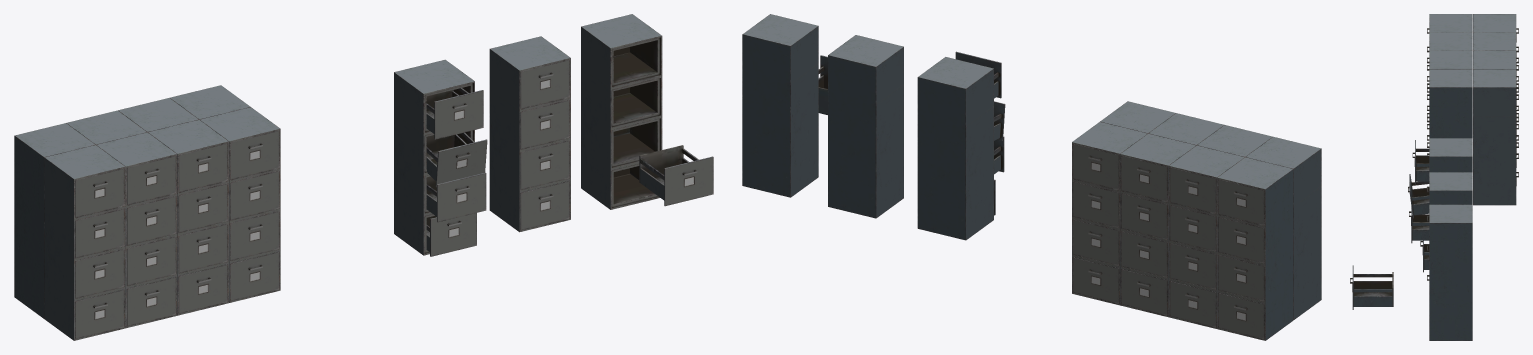
The model's file is optimized_cabinet.gltf.
The picture shows the model from 3 angles, left to right: view 1: azimuth 30°, elevation 25°; view 2: azimuth 150°, elevation 25°; view 3: azimuth 270°, elevation 25°; orthographic projection. The views are drawn at different scales.
Parts seen in each view (by area): view 1: box_2, box_1, box_6, box, box_5, box_4, box_3, box_10, box_7, box_9, box_8; view 2: box_1, box_2, box_10, box, box_8, box_9, box_7, box_6, box_4, box_3, box_5; view 3: box_2, box_7, box_1, box_3, box, box_8, box_4, box_9, box_10, box_5, box_6.
Part boxes in pixels (bbox=[...]): box_2: bbox=[581, 14, 713, 209]; box_1: bbox=[394, 59, 487, 256]; box_6: bbox=[44, 145, 125, 340]; box: bbox=[489, 36, 570, 232]; box_5: bbox=[96, 132, 177, 328]; box_4: bbox=[148, 119, 228, 315]; box_3: bbox=[200, 107, 280, 302]; box_10: bbox=[14, 123, 95, 318]; box_7: bbox=[170, 85, 250, 119]; box_9: bbox=[66, 110, 146, 144]; box_8: bbox=[118, 98, 198, 132]; box_1: bbox=[917, 51, 1005, 240]; box_2: bbox=[742, 14, 827, 197]; box_10: bbox=[1217, 157, 1293, 340]; box: bbox=[828, 35, 903, 218]; box_8: bbox=[1120, 133, 1196, 317]; box_9: bbox=[1169, 145, 1244, 328]; box_7: bbox=[1072, 122, 1147, 305]; box_6: bbox=[1245, 136, 1321, 320]; box_4: bbox=[1148, 113, 1224, 145]; box_3: bbox=[1100, 101, 1175, 133]; box_5: bbox=[1197, 125, 1272, 156]; box_2: bbox=[1350, 204, 1472, 340]; box_7: bbox=[1473, 69, 1518, 205]; box_1: bbox=[1408, 138, 1472, 272]; box_3: bbox=[1427, 69, 1472, 147]; box: bbox=[1427, 172, 1472, 280]; box_8: bbox=[1473, 50, 1518, 167]; box_4: bbox=[1427, 50, 1472, 155]; box_9: bbox=[1473, 32, 1518, 145]; box_10: bbox=[1473, 14, 1518, 127]; box_5: bbox=[1427, 32, 1472, 140]; box_6: bbox=[1427, 14, 1472, 122].
Bounding box in the file's own units: 4.57 × 1.2 × 1.56.
Materials: 1 (1 with a texture image).
